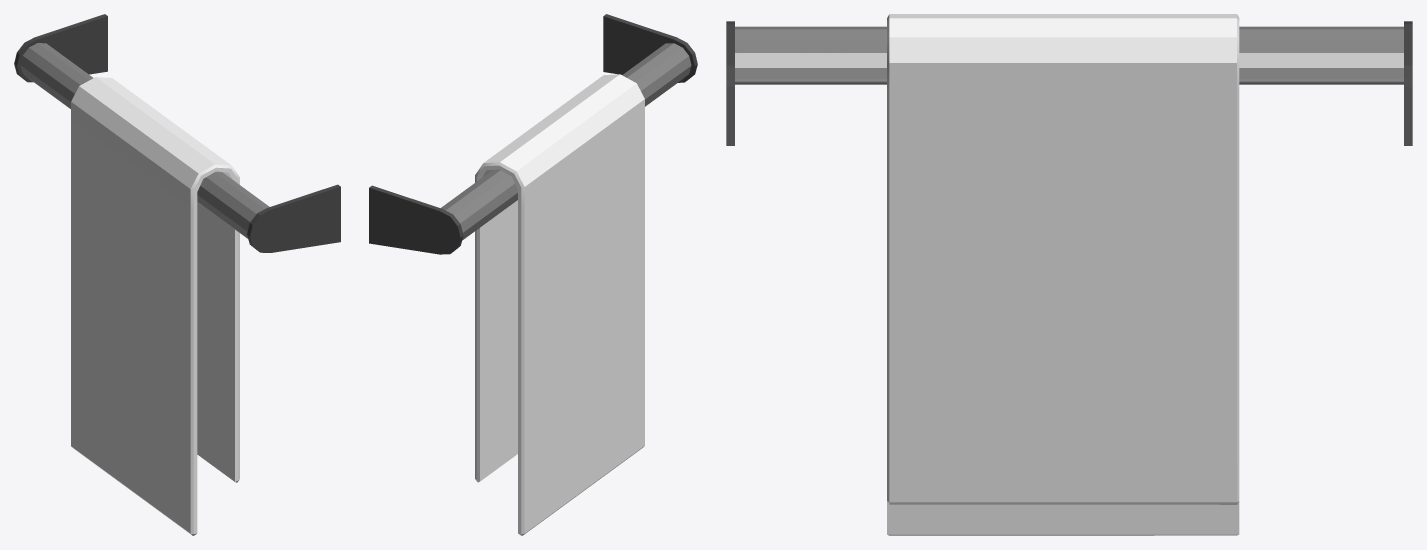
The model's file is tenugui_B.fbx.
The picture shows the model from 3 angles, left to right: view 1: azimuth 30°, elevation 25°; view 2: azimuth 150°, elevation 25°; view 3: azimuth 270°, elevation 25°; orthographic projection. The views are drawn at different scales.
Parts seen in each view (by area): view 1: pCylinder10; view 2: pCylinder10; view 3: pCylinder10.
Boxes of the visible parts, box(x1,y1,x2,y2) form: pCylinder10: box(14, 14, 340, 535); pCylinder10: box(369, 14, 697, 535); pCylinder10: box(726, 14, 1412, 535).
Bounding box in the file's own units: 0.5872 × 2.19 × 2.54.
1 material, 1 textured.
